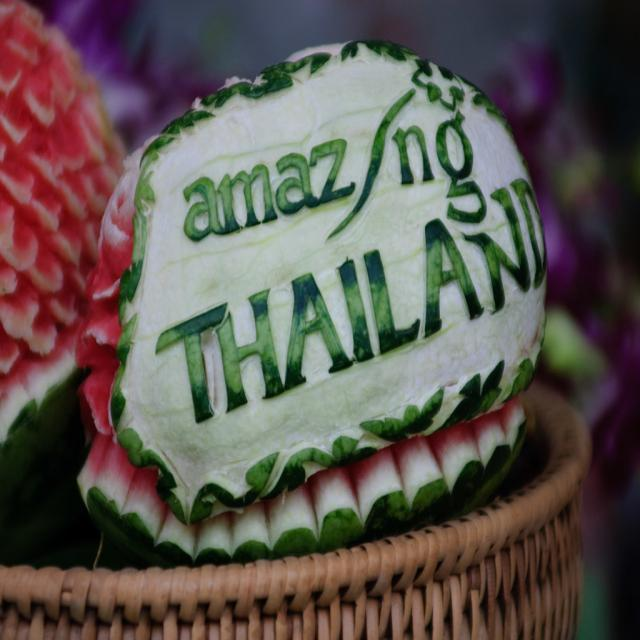Watermelon: (78, 39, 548, 566), (0, 0, 130, 460)
